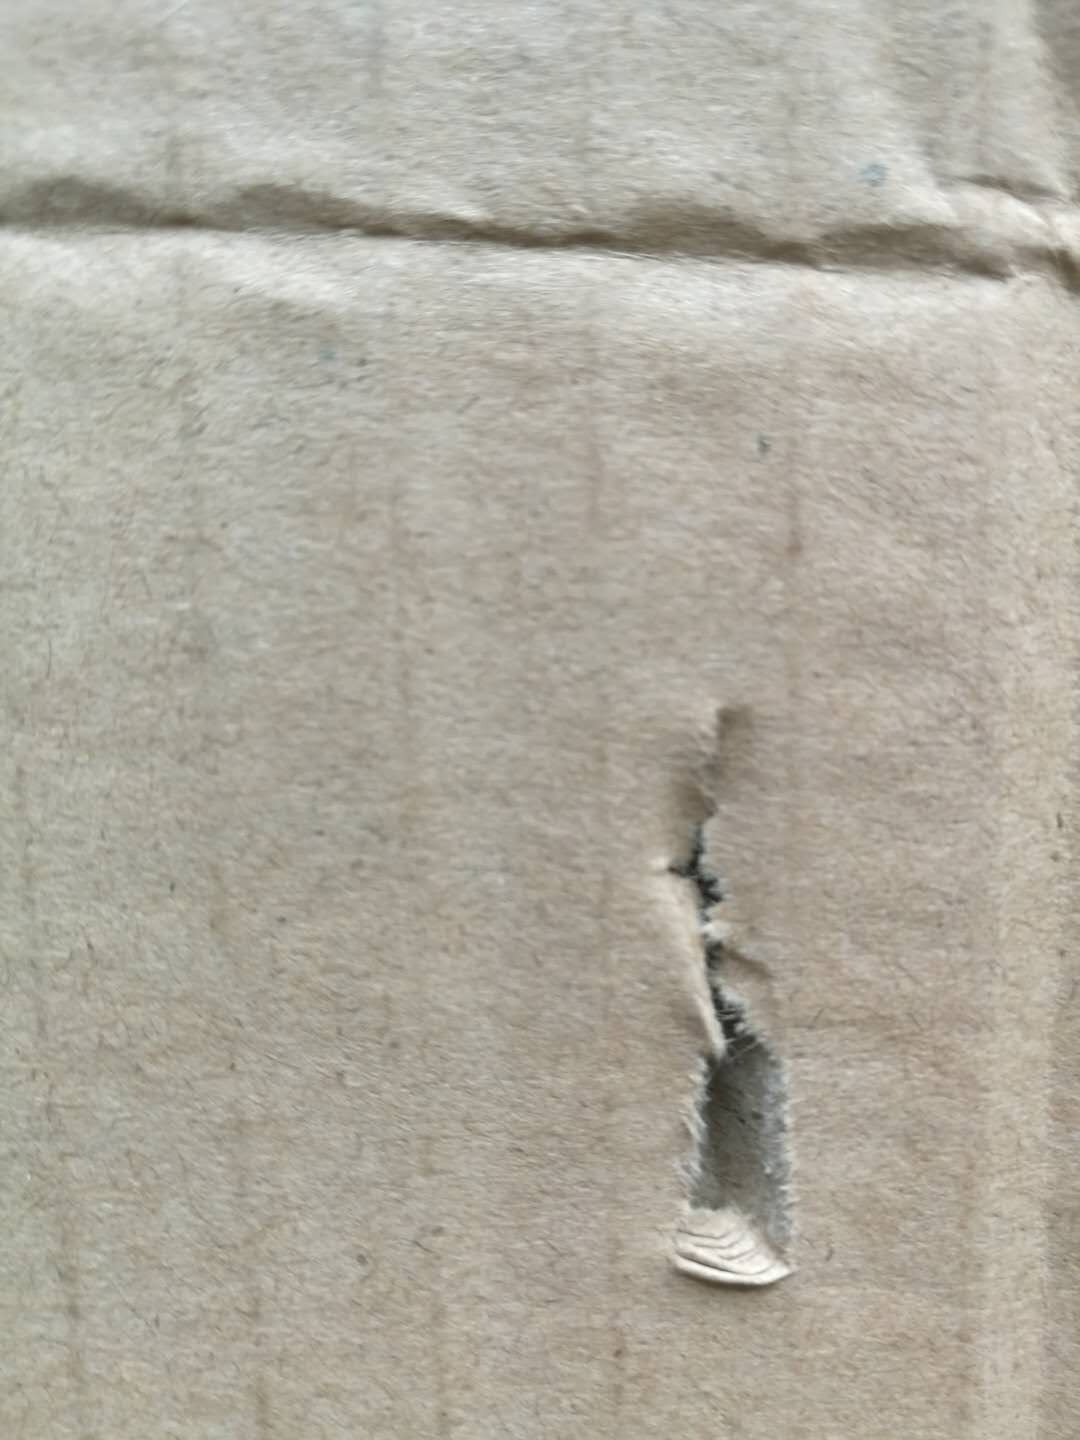defect: (5, 2, 1080, 353), (554, 644, 894, 1322), (1011, 915, 1080, 1439)
